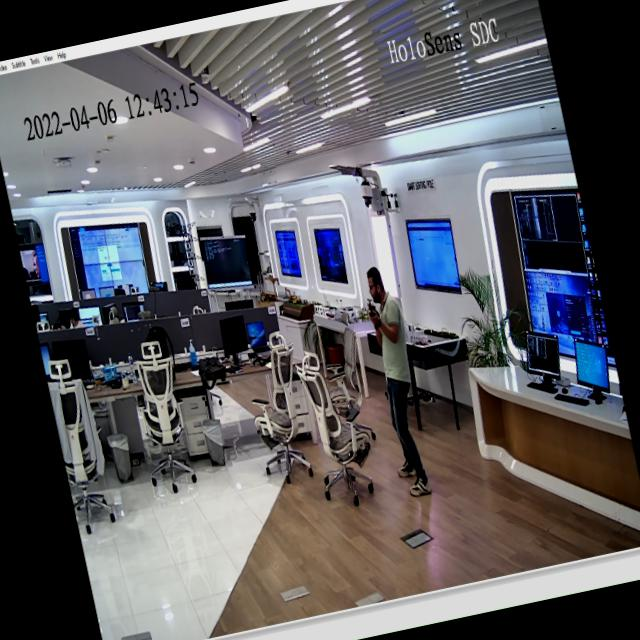long weapon: (364, 297, 382, 328)
